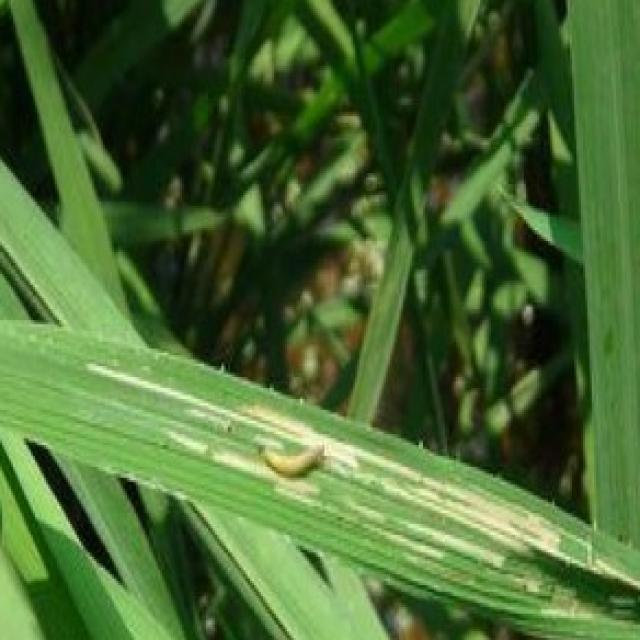rice leaf roller: (259, 443, 322, 476)
